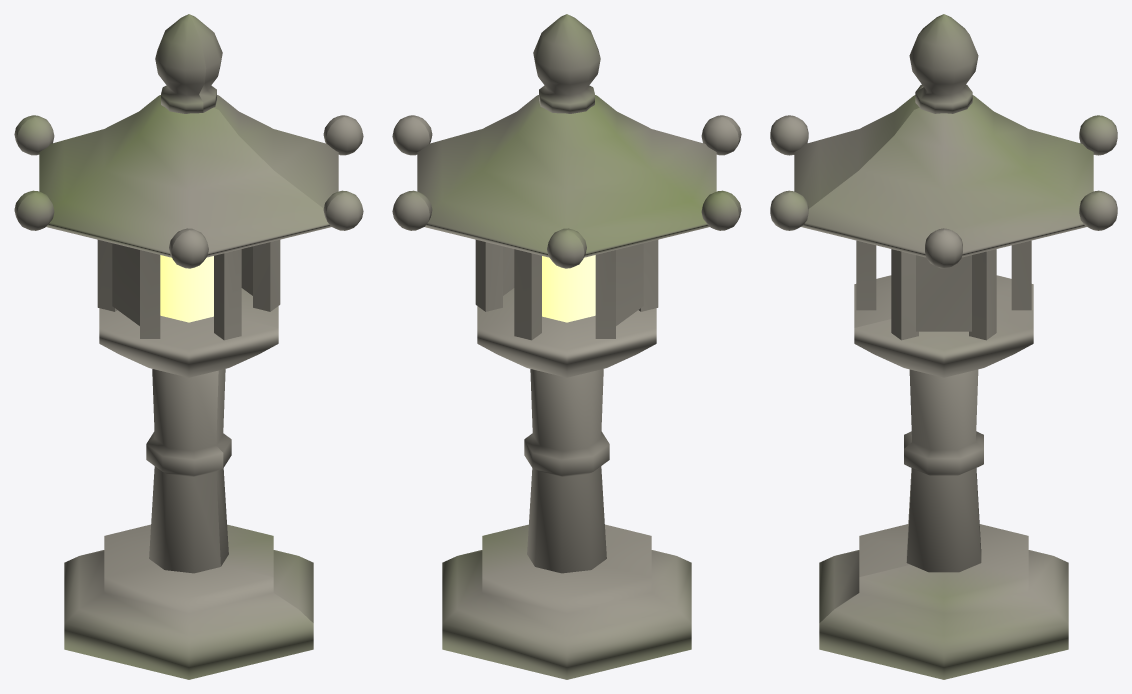
Rendered from stoneLantern.glb.
3 views of the same model, side by side, from view 1: azimuth 30°, elevation 25°; view 2: azimuth 150°, elevation 25°; view 3: azimuth 270°, elevation 25° (orthographic).
Visible parts, largest first — view 1: stone_lantern, glow; view 2: stone_lantern, glow; view 3: stone_lantern.
Boxes of the visible parts, x1,y1,x2,y2 form: stone_lantern: (14, 14, 363, 679); glow: (160, 255, 213, 322); stone_lantern: (392, 14, 741, 679); glow: (542, 255, 595, 322); stone_lantern: (770, 14, 1117, 679).
Bounding box in the file's own units: 0.69 × 1.16 × 0.6035.
